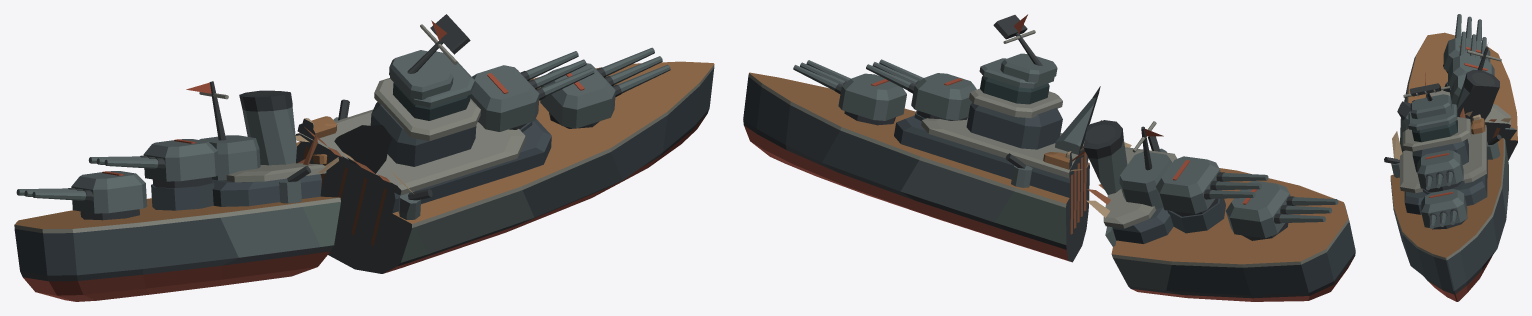
Rendered from hms_belfast_destroyed.glb.
3 views of the same model, side by side, from view 1: azimuth 30°, elevation 25°; view 2: azimuth 150°, elevation 25°; view 3: azimuth 270°, elevation 25° (orthographic). The views are drawn at different scales.
Visible parts, largest first — view 1: hms_belfast_destroyed; view 2: hms_belfast_destroyed; view 3: hms_belfast_destroyed.
Part boxes in pixels (x1,y1,x2,y2): hms_belfast_destroyed: (14, 14, 714, 301); hms_belfast_destroyed: (743, 14, 1355, 301); hms_belfast_destroyed: (1384, 14, 1517, 301).
Bounding box in the file's own units: 2.85 × 0.9592 × 0.7116.
